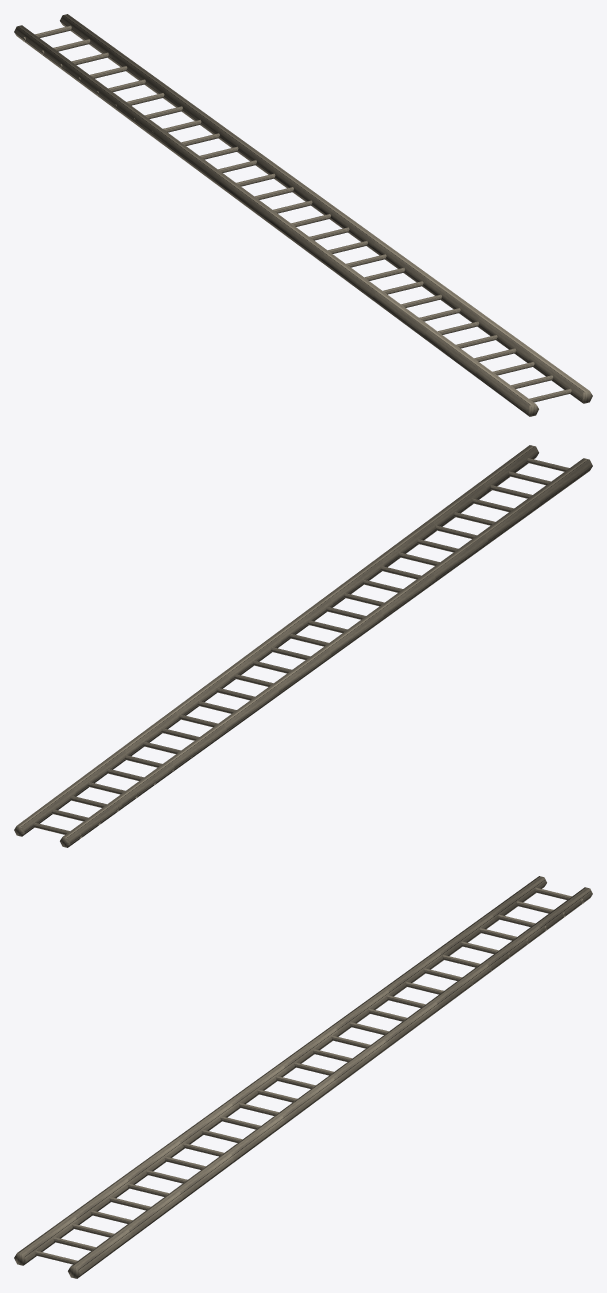
The model's file is SiegeLadder_1.gltf.
The picture shows the model from 3 angles, top to bottom: view 1: azimuth 30°, elevation 25°; view 2: azimuth 150°, elevation 25°; view 3: azimuth 330°, elevation 25°; orthographic projection.
Visible parts, largest first — view 1: SiegeLadder_1; view 2: SiegeLadder_1; view 3: SiegeLadder_1.
Boxes of the visible parts, x1,y1,x2,y2 form: SiegeLadder_1: [14, 14, 592, 416]; SiegeLadder_1: [14, 445, 592, 847]; SiegeLadder_1: [14, 876, 592, 1278].
Bounding box in the file's own units: 0.74 × 0.1212 × 10.
Materials: 1 (1 with a texture image).
